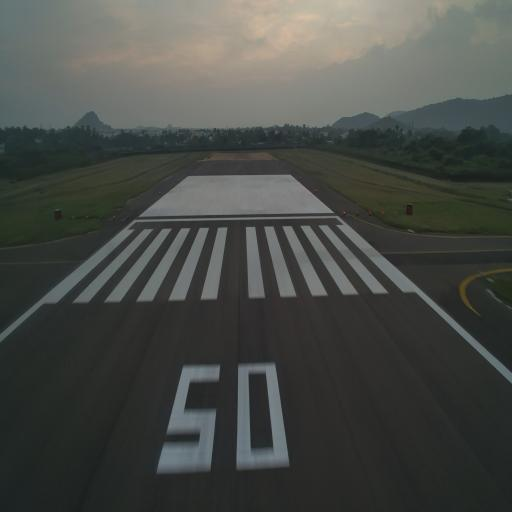off: (126, 213, 130, 221), (97, 214, 102, 220)
on: (112, 213, 116, 221), (84, 214, 89, 220), (393, 210, 398, 216), (71, 215, 76, 220), (343, 210, 347, 216), (380, 208, 384, 214), (356, 210, 360, 215), (369, 209, 372, 215)
